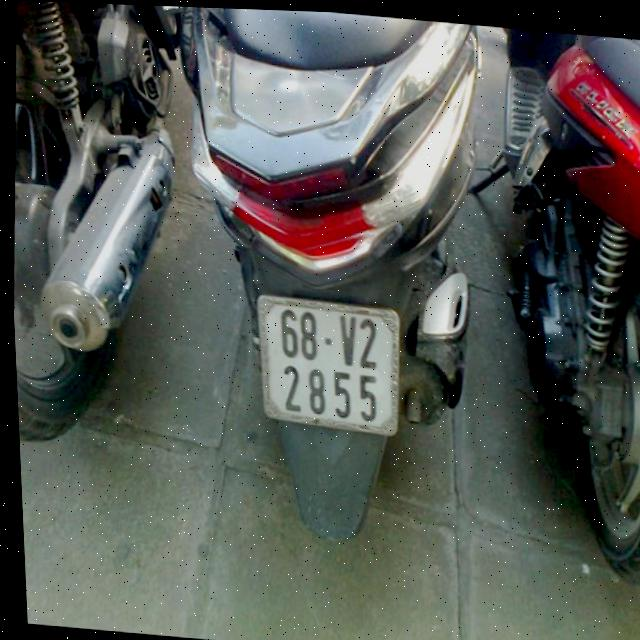motorcycle: (155, 6, 523, 565), (0, 0, 223, 470), (459, 25, 640, 597)
plate: (247, 295, 408, 441)
